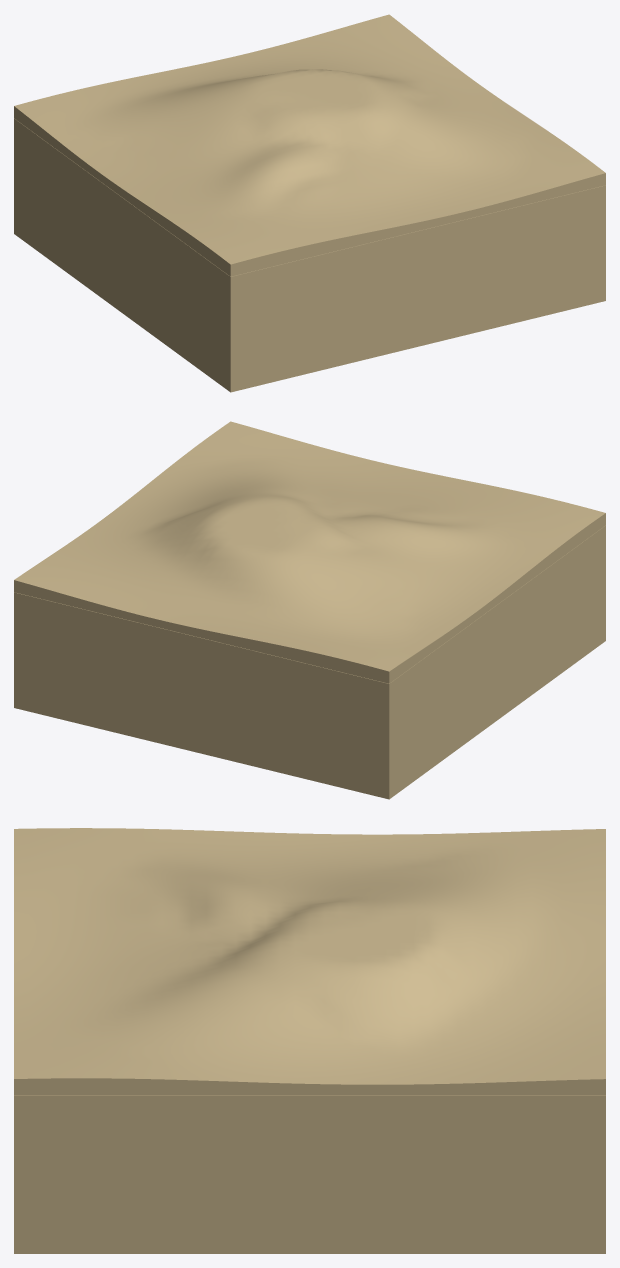
File: tile_sand_before_reference_rebuild.glb
The picture shows the model from 3 angles, top to bottom: view 1: azimuth 30°, elevation 25°; view 2: azimuth 150°, elevation 25°; view 3: azimuth 270°, elevation 25°; orthographic projection. The views are drawn at different scales.
Parts seen in each view (by area): view 1: sand_surface, sand_body, sand_cap; view 2: sand_surface, sand_body, sand_cap; view 3: sand_surface, sand_body, sand_cap.
Part boxes in pixels (<box>): sand_surface: <box>14,14,605,276</box>; sand_body: <box>14,131,605,392</box>; sand_cap: <box>14,118,605,289</box>; sand_surface: <box>14,421,605,683</box>; sand_body: <box>14,538,605,799</box>; sand_cap: <box>14,525,605,696</box>; sand_surface: <box>14,828,605,1095</box>; sand_body: <box>14,1113,605,1253</box>; sand_cap: <box>14,1095,605,1113</box>.
Size of the model in its own units: 1.7 by 0.67 by 1.7.
